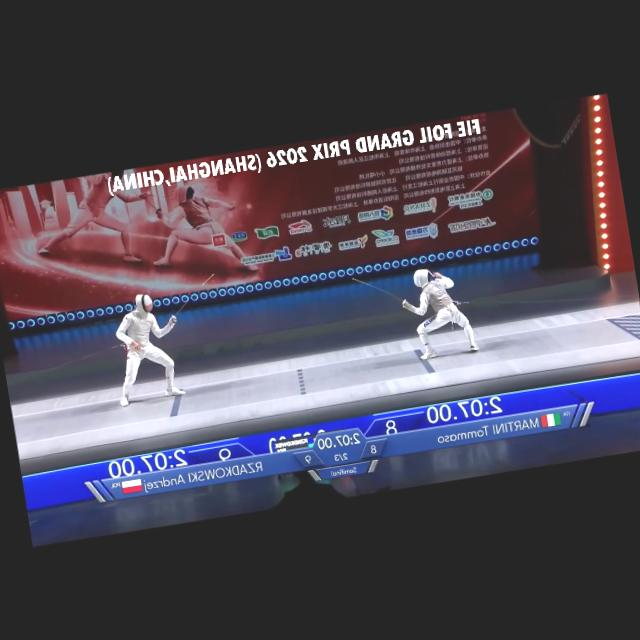blade: (160, 272, 223, 326), (348, 267, 409, 318)
